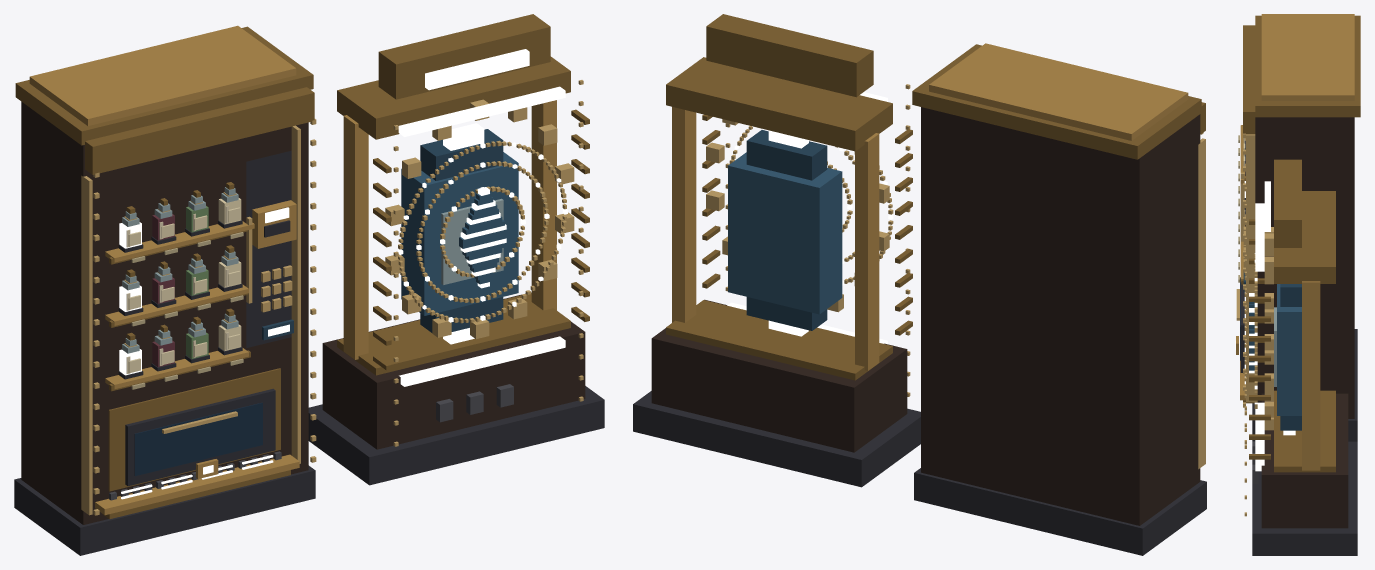
The model's file is tavern-machines.glb.
3 renders of one model, left to right at view 1: azimuth 30°, elevation 25°; view 2: azimuth 150°, elevation 25°; view 3: azimuth 270°, elevation 25°, orthographic. The views are drawn at different scales.
Visible parts, largest first — view 1: Corridor_Voxels; view 2: Corridor_Voxels; view 3: Corridor_Voxels.
Boxes of the visible parts, x1,y1,x2,y2 form: Corridor_Voxels: (14, 14, 604, 555); Corridor_Voxels: (633, 14, 1206, 555); Corridor_Voxels: (1235, 14, 1360, 555).
Bounding box in the file's own units: 3.12 × 2.47 × 0.81.
